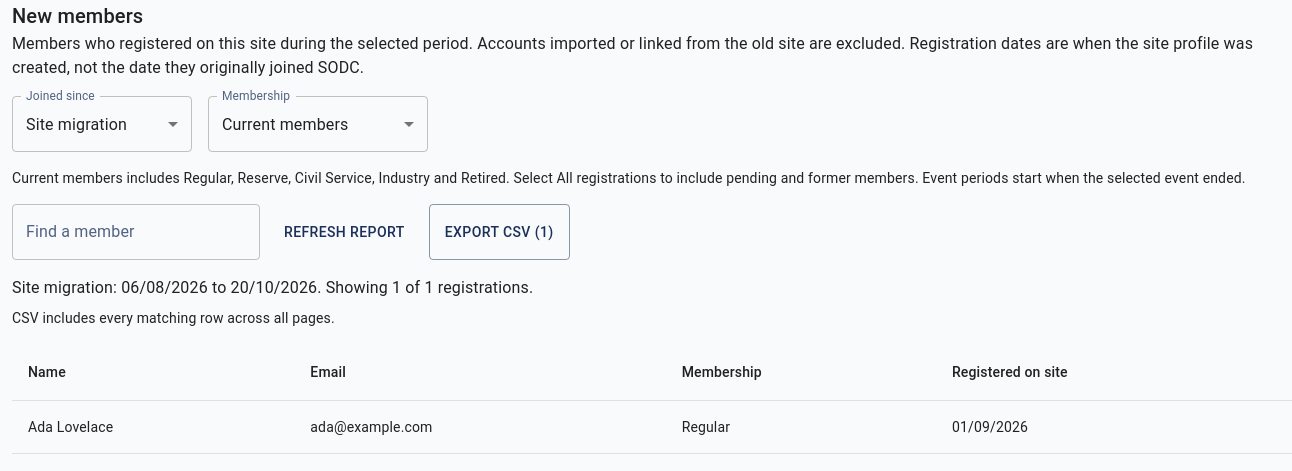
new members admin report › handles empty results and report failures without exporting stale data
Check: the text "ada@example.com" is shown, box [294, 400, 666, 454]
Click the button "Refresh report": x=344, y=232 [276, 204, 413, 260]
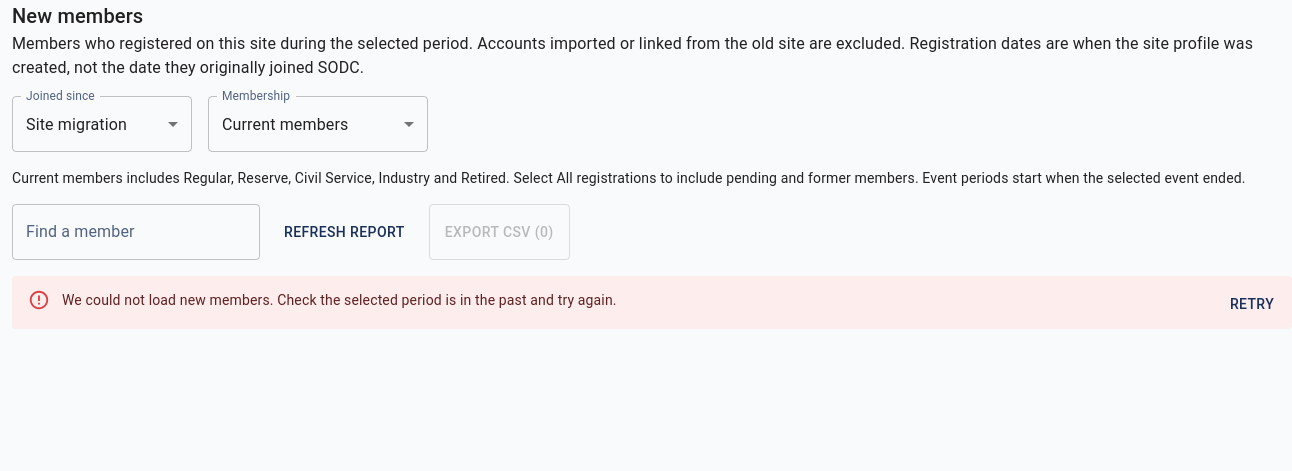
Check: the text "We could not load new members" is shown, box [62, 292, 617, 308]
Check: the text "ada@example.com" is gone
Check: the button "Export CSV (0)" is disabled, box [429, 204, 570, 260]
Click the button "Retry": x=1252, y=304 [1220, 286, 1284, 322]
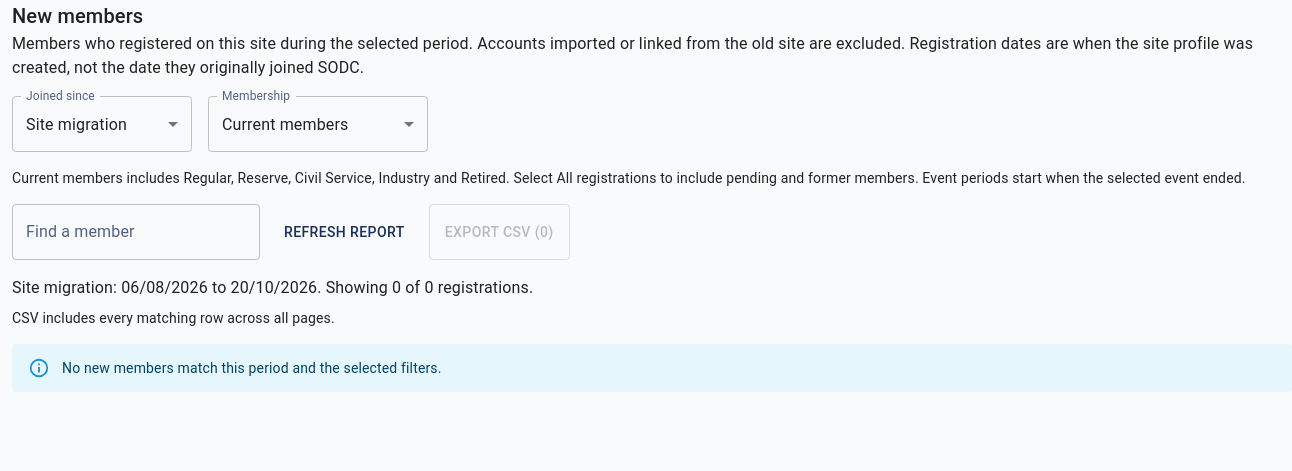
Check: the text "No new members match this period and the selected filters." is shown, box [62, 360, 442, 376]
